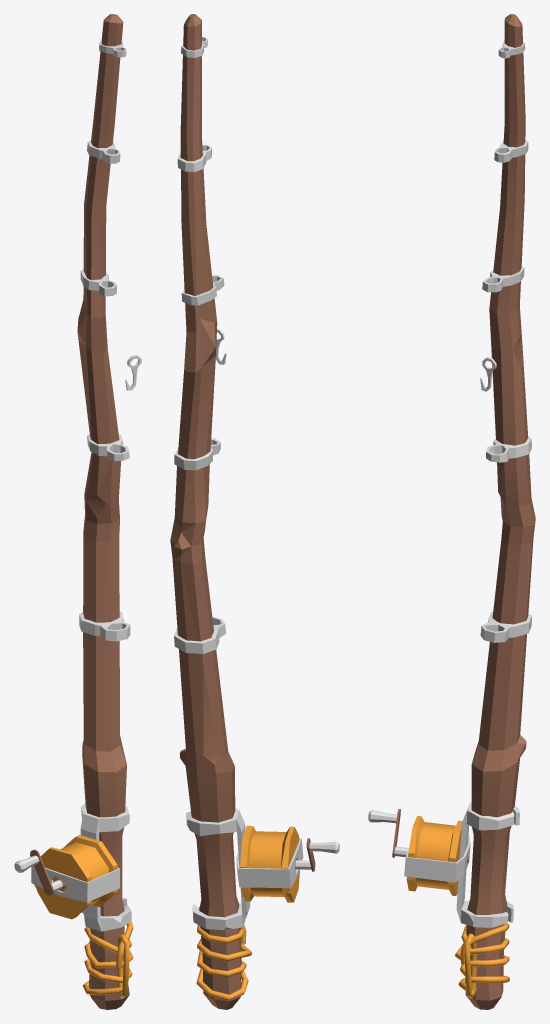
Rendered from FishingRod_AssetsHarbor.fbx.
3 renders of one model, left to right at view 1: azimuth 30°, elevation 25°; view 2: azimuth 150°, elevation 25°; view 3: azimuth 330°, elevation 25°, orthographic.
Visible parts, largest first — view 1: fishing_rod; view 2: fishing_rod; view 3: fishing_rod.
Boxes of the visible parts, <box> form: fishing_rod: <box>14,14,133,1009</box>; fishing_rod: <box>170,14,339,1009</box>; fishing_rod: <box>368,14,535,1009</box>.
Size of the model in its own units: 28.59 by 200 by 22.06.
